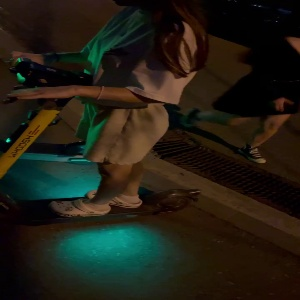human on a scooter: (1, 1, 212, 230)
